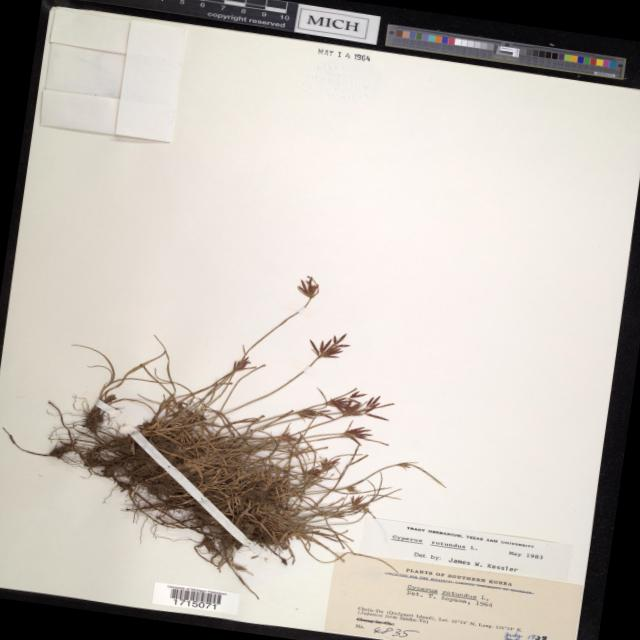cyperus: (142, 254, 470, 530)
